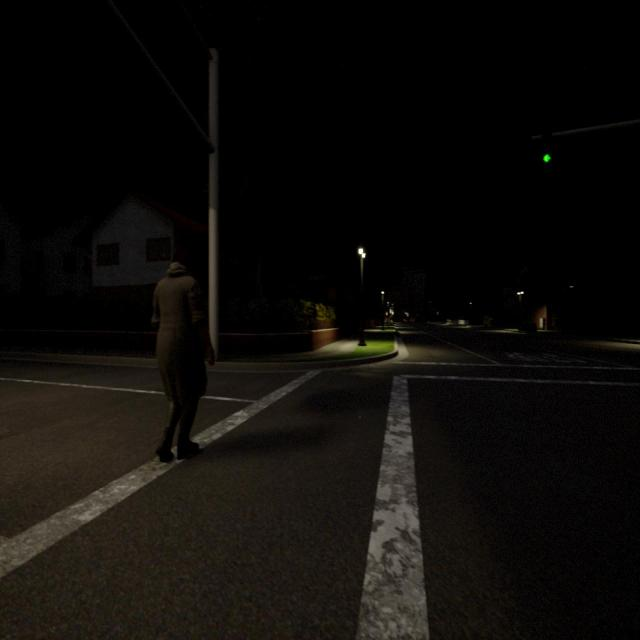Pedestrian: (151, 222, 212, 462)
traffic_light: (543, 138, 550, 162)
